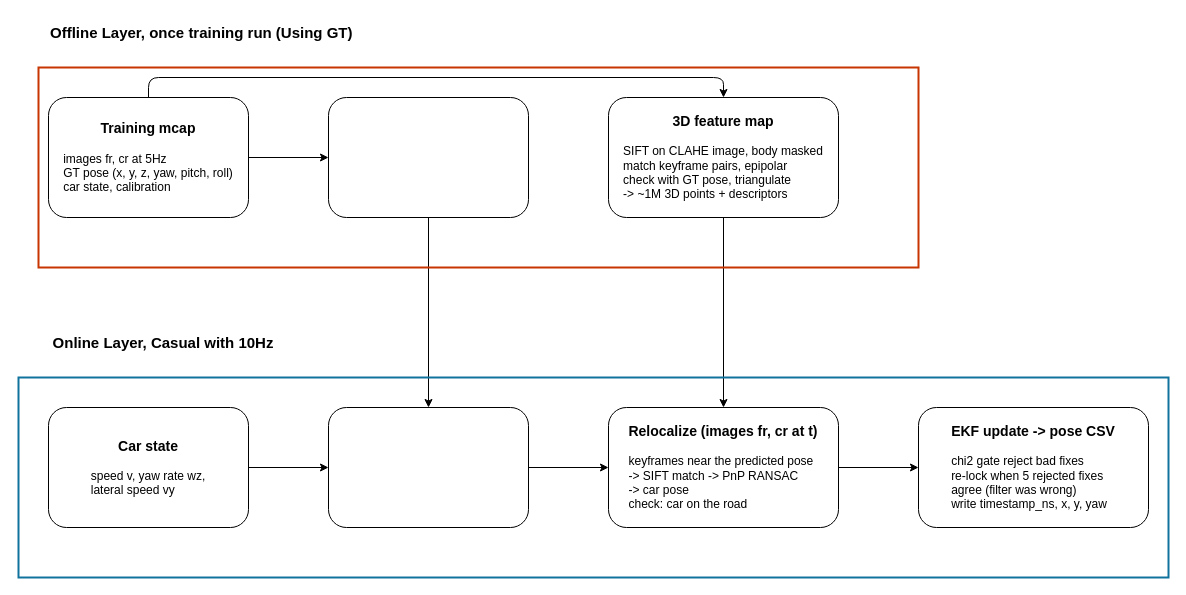
The diagram is 1186 pixels wide and 595 high, and some of its shapes have lost their labels. Here are the shapes that lost their labels. From the top down, the centre of each, then its label:
At (428,157): "Motion calibration yaw-rate bias (training laps only)".
At (428,467): "EKF predict x, y, yaw, yaw-rate bias, speed scale unicycle + sideslip model".
